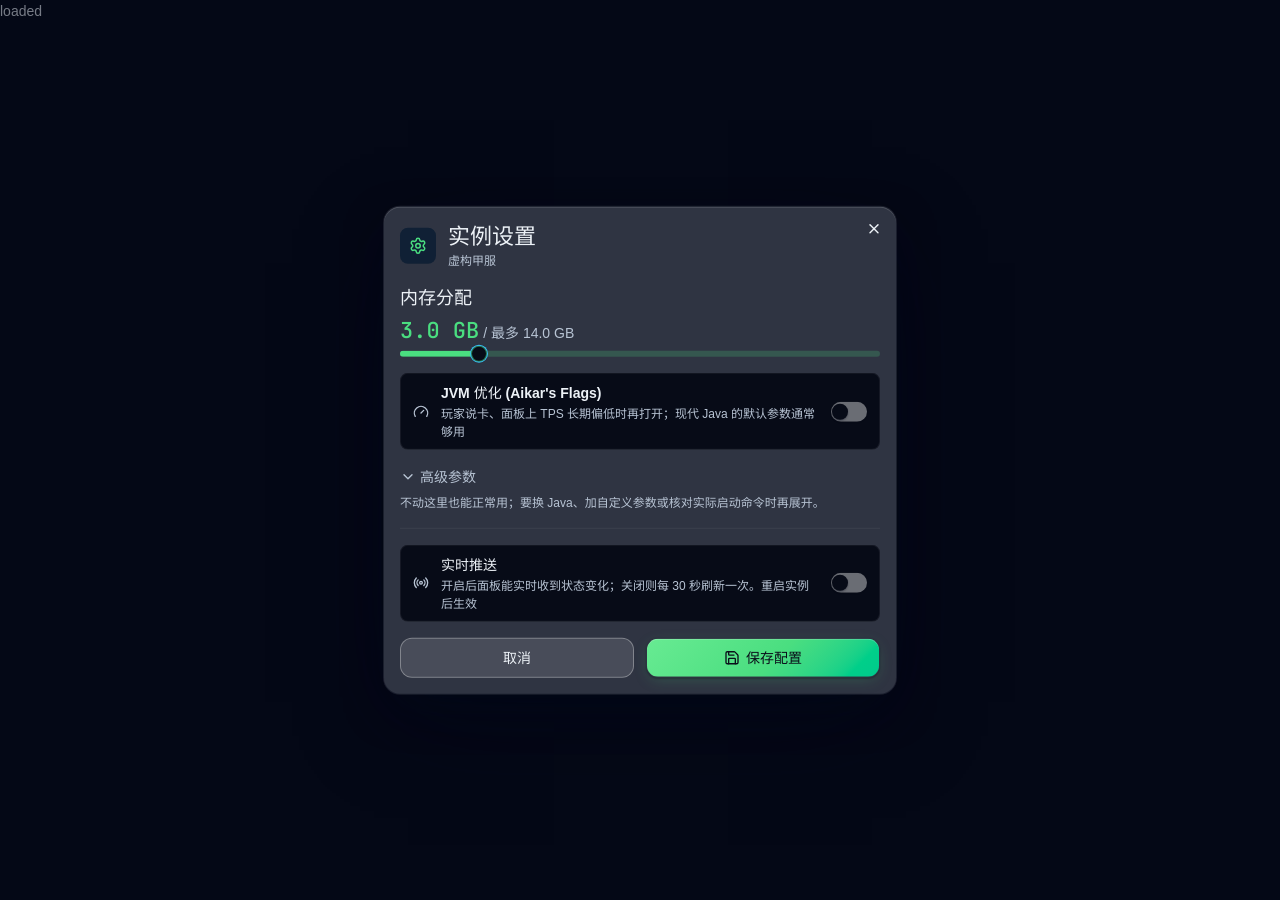
Test: InstanceSettingsDialog › 旧 startCommand 解析（无 aikars 标记）：内存 -Xmx3G + 附加参数保留、Aikar 开关关闭
The width and height of the screenshot is (1280, 900).
Click the button "高级参数" at x=438, y=477, box 400,466 -> 476,488
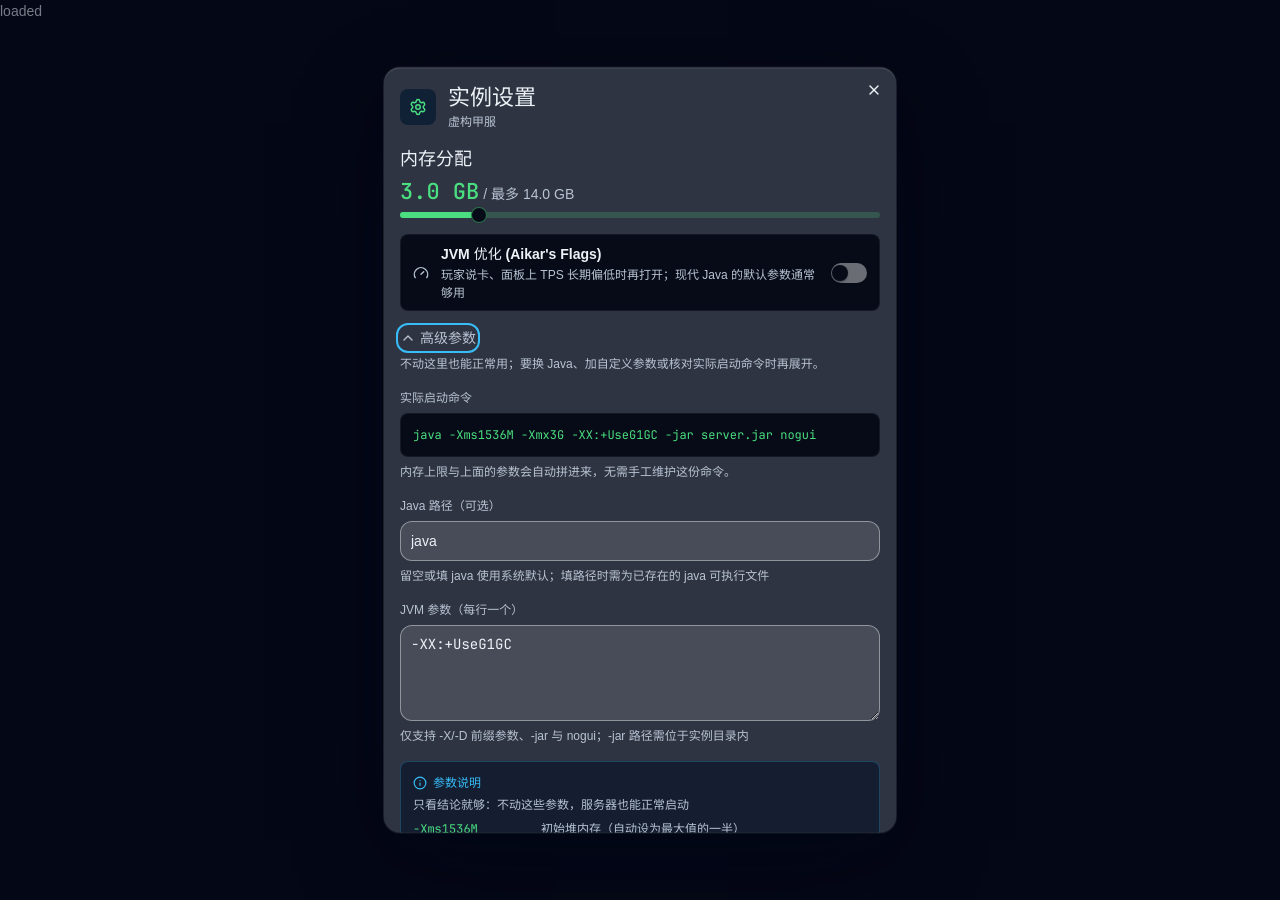
Expected: the text "3.0 GB" is shown, 400,176 -> 479,205
Expected: the text "java -Xms1536M -Xmx3G -XX:+UseG1GC -jar server.jar nogui" is shown, 400,413 -> 880,457
